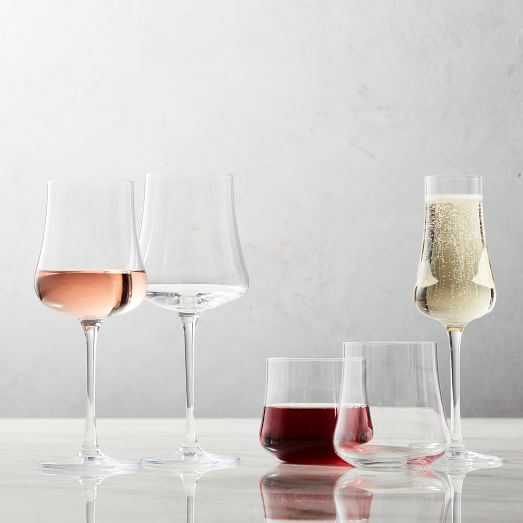Nonrec_Glass: (21, 147, 141, 490), (133, 157, 247, 490), (397, 142, 506, 476), (330, 329, 467, 478), (261, 336, 370, 478)
